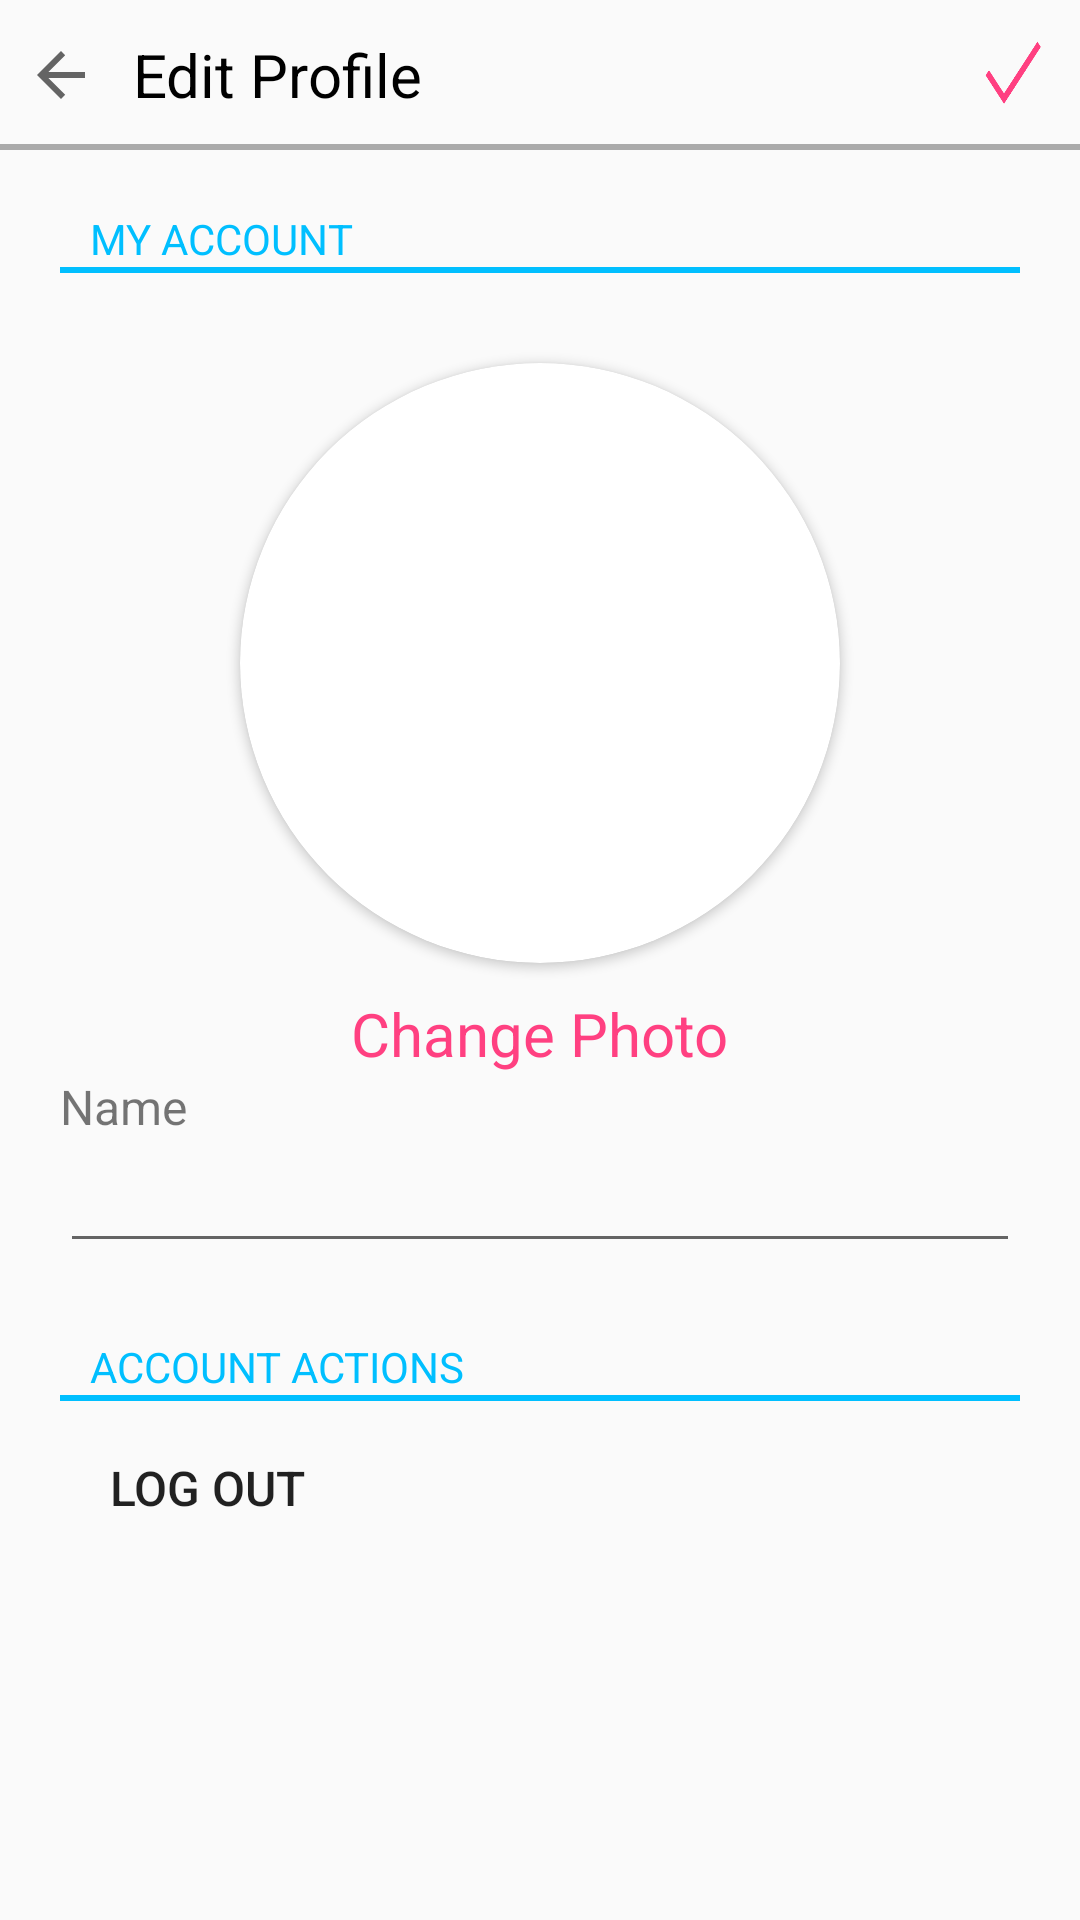

Icon bounding boxes for this 1080 x 1920 phone screenshot, format [x1=x1, y1=y1, x2=x2, y2=y2]:
check: [x1=986, y1=42, x2=1041, y2=104]
